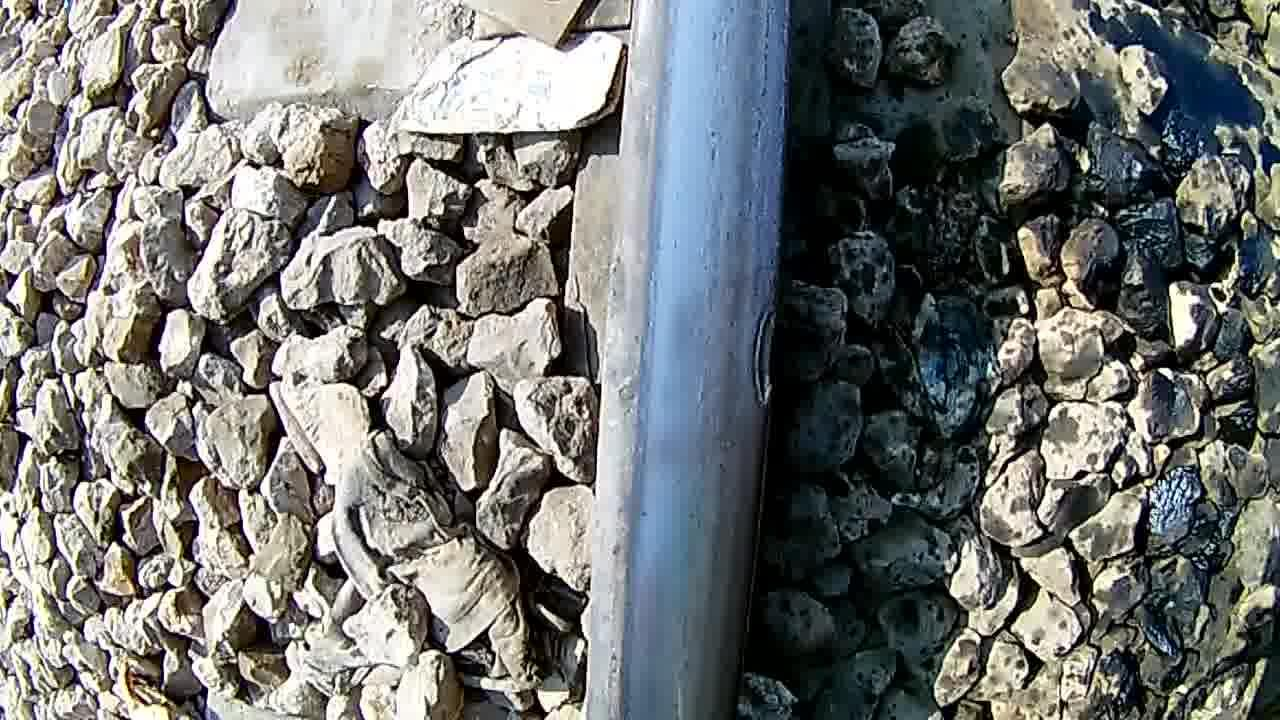crack: (740, 280, 790, 433)
